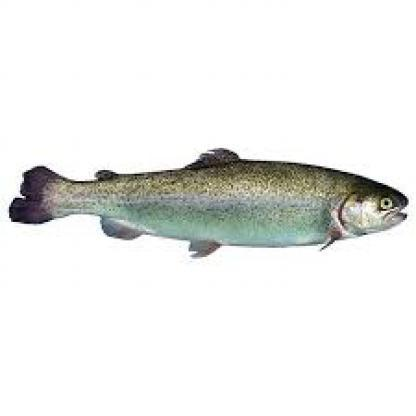fish: (6, 144, 408, 258)
